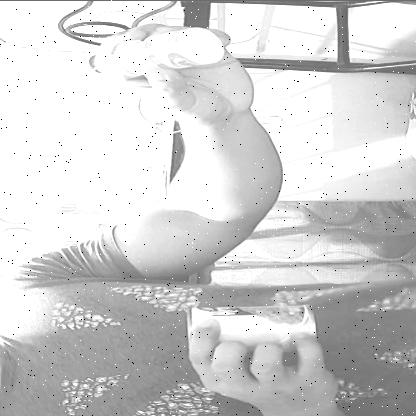Can: (164, 271, 328, 360)
Others: (73, 20, 249, 85)
